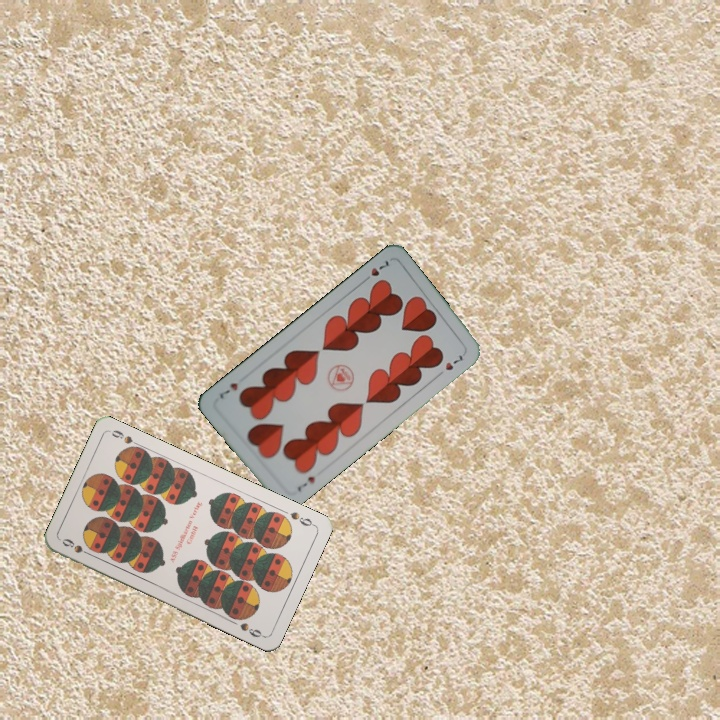H7: (358, 256, 391, 285), (293, 472, 317, 494)
S9: (58, 534, 96, 559), (286, 508, 317, 529)
